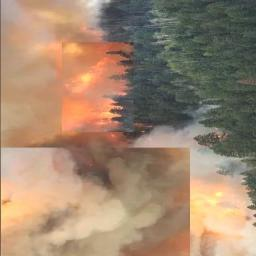Heavy smoke: (0, 1, 227, 256)
